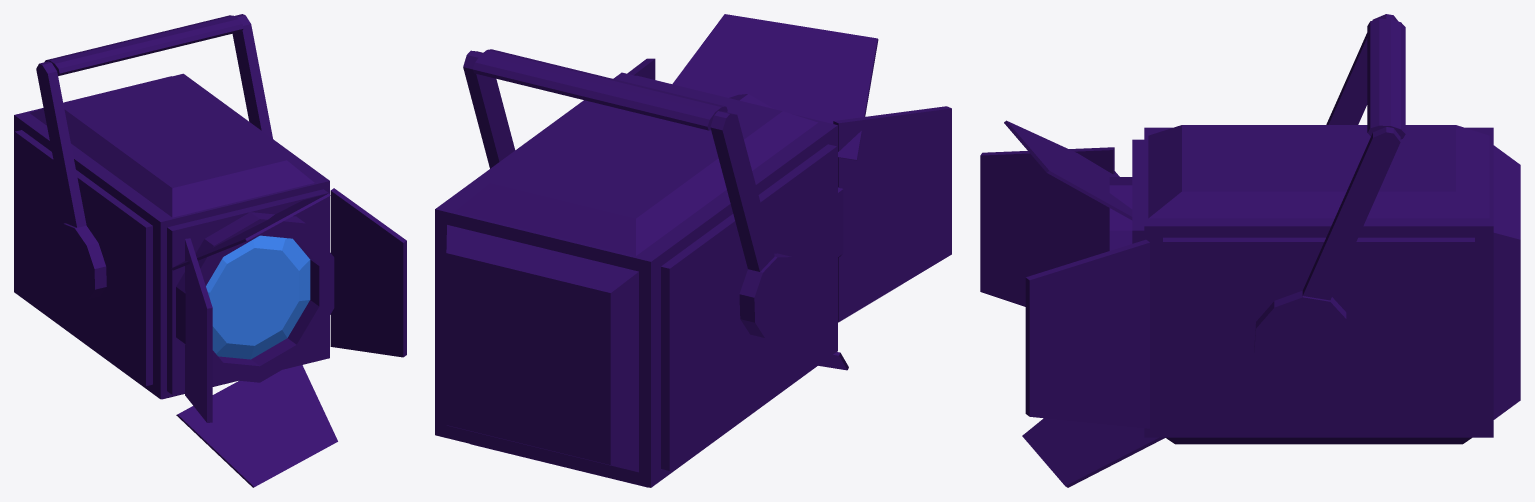
The model's file is Foco.fbx.
3 renders of one model, left to right at view 1: azimuth 30°, elevation 25°; view 2: azimuth 150°, elevation 25°; view 3: azimuth 270°, elevation 25°, orthographic. The views are drawn at different scales.
Parts seen in each view (by area): view 1: Foco, Luz, Cosa rara, Cosa rara.001, Asa; view 2: Foco, Cosa rara, Asa, Cosa rara.001, Luz; view 3: Foco, Cosa rara, Asa, Cosa rara.001, Luz.
Boxes of the visible parts, x1=… form: Foco: x1=14, y1=73, x2=329, y2=399; Luz: x1=176, y1=212, x2=334, y2=382; Cosa rara: x1=185, y1=188, x2=406, y2=422; Cosa rara.001: x1=171, y1=193, x2=337, y2=487; Asa: x1=36, y1=14, x2=272, y2=299; Foco: x1=435, y1=72, x2=837, y2=487; Cosa rara: x1=627, y1=58, x2=951, y2=322; Asa: x1=463, y1=49, x2=803, y2=337; Cosa rara.001: x1=672, y1=14, x2=878, y2=370; Luz: x1=729, y1=94, x2=843, y2=258; Foco: x1=1132, y1=125, x2=1520, y2=444; Cosa rara: x1=980, y1=147, x2=1149, y2=428; Asa: x1=1254, y1=14, x2=1405, y2=374; Cosa rara.001: x1=1004, y1=120, x2=1165, y2=487; Luz: x1=1109, y1=177, x2=1132, y2=250.
Size of the model in its own units: 197 by 281 by 352.
